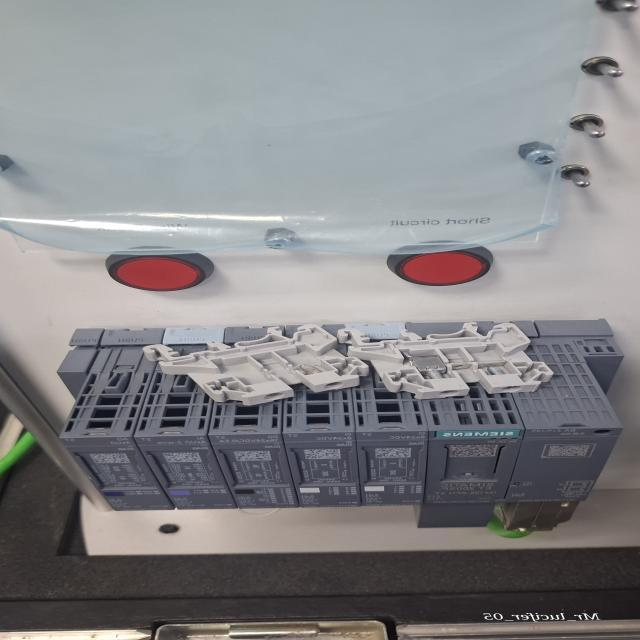Reject: (142, 323, 370, 408), (339, 320, 553, 400)
